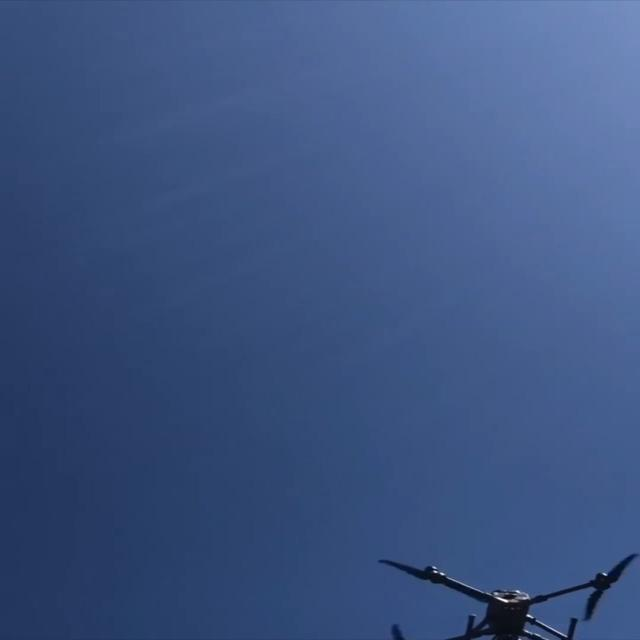drone: (376, 552, 638, 639)
